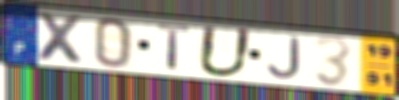0: (92, 16, 135, 69)
3: (312, 34, 359, 88)
J: (265, 35, 304, 81)
T: (154, 22, 194, 73)
U: (195, 23, 257, 79)
X: (36, 10, 90, 67)
